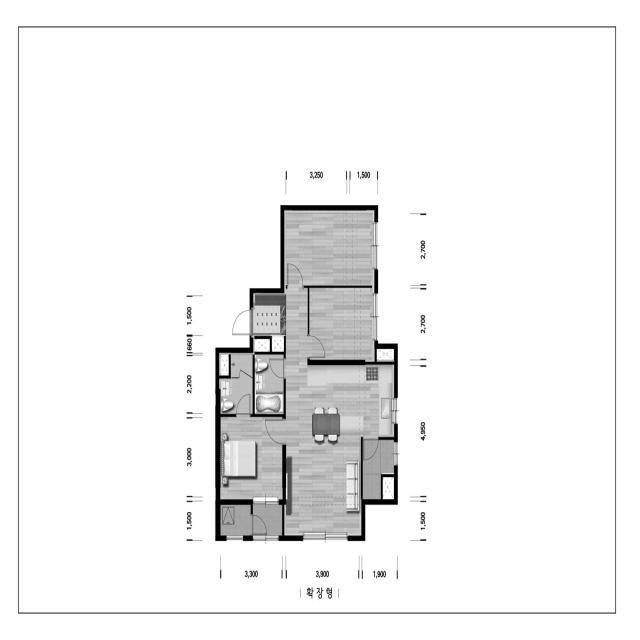space_balconi: (363, 440, 394, 499), (253, 504, 282, 536)
space_bedroom: (284, 210, 375, 286), (220, 417, 283, 500), (309, 288, 375, 362)
space_front: (251, 293, 286, 352)
space_kitchen: (308, 365, 394, 448)
space_living_room: (284, 288, 362, 536)
space_other: (220, 505, 251, 535), (383, 477, 394, 499), (377, 348, 394, 362), (253, 339, 270, 352), (219, 353, 229, 375)
space_toilet: (219, 353, 253, 414), (255, 354, 284, 414)
